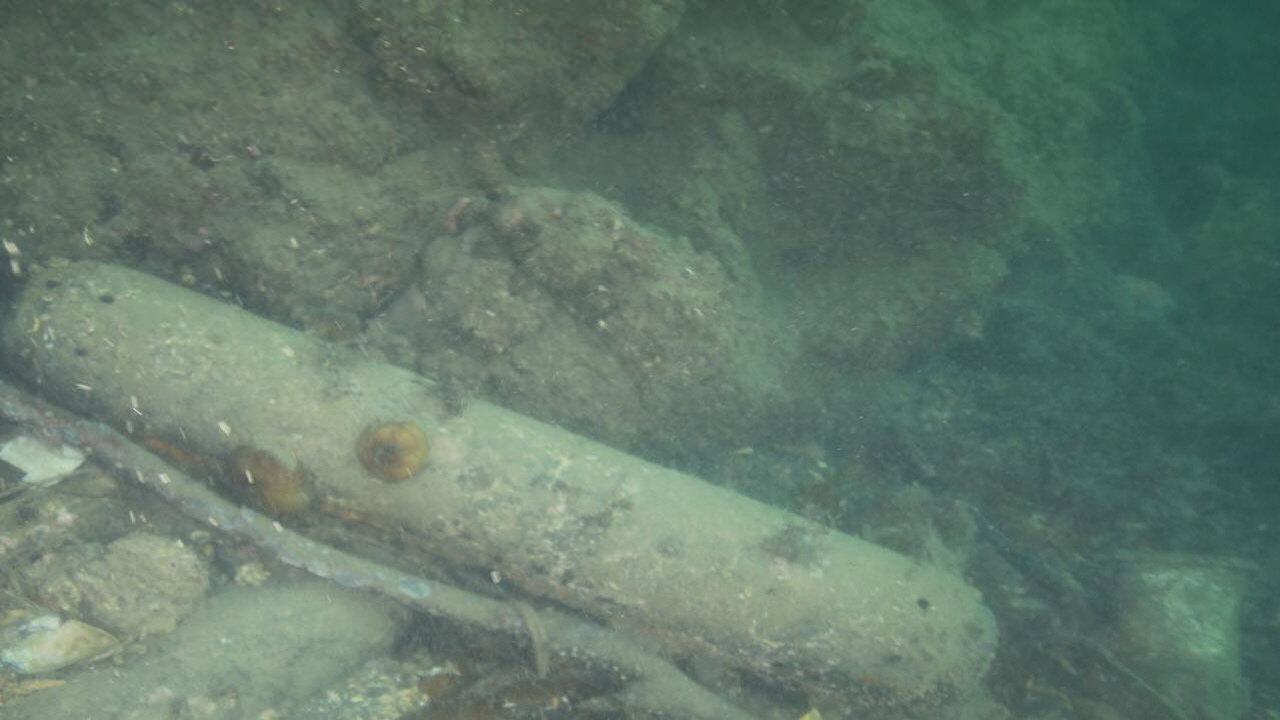eel fish trap: (0, 253, 1000, 720)
